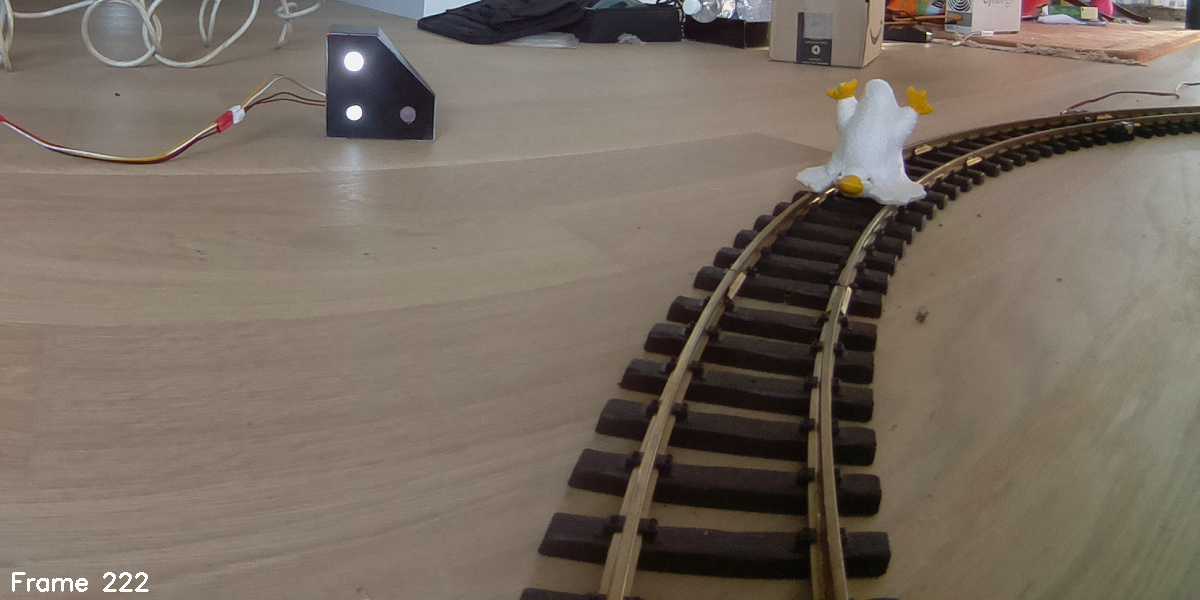Ente: (794, 75, 934, 215)
Fahrt: (328, 24, 437, 141)
